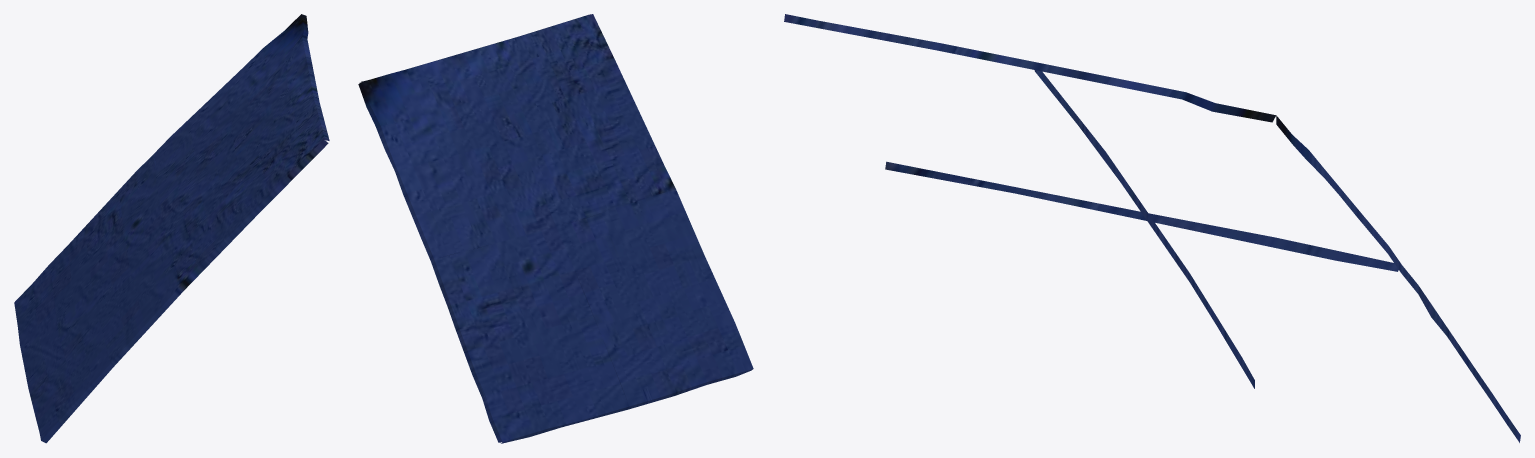
The picture shows the model from 3 angles, left to right: view 1: azimuth 30°, elevation 25°; view 2: azimuth 150°, elevation 25°; view 3: azimuth 270°, elevation 25°; orthographic projection. The views are drawn at different scales.
Bounding box in the file's own units: 587265 × 471869 × 603688.
1 material, 1 textured.
